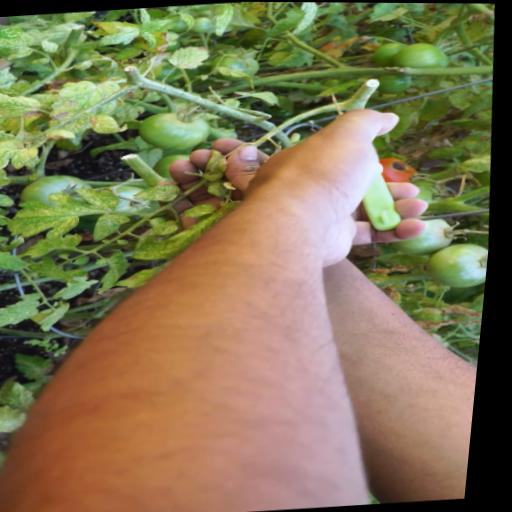Spider Mites: (6, 184, 126, 243), (134, 213, 230, 261), (47, 78, 122, 135), (0, 138, 47, 178), (21, 232, 87, 260), (0, 374, 47, 412), (0, 299, 49, 330), (0, 89, 47, 119), (281, 2, 319, 36), (94, 212, 138, 241), (57, 277, 106, 302), (87, 110, 133, 136), (167, 44, 213, 70), (0, 403, 37, 435), (202, 147, 235, 181), (95, 25, 142, 48), (0, 247, 39, 274), (135, 182, 184, 203), (0, 37, 36, 62), (210, 2, 236, 36), (150, 220, 186, 236), (183, 203, 221, 217), (0, 66, 19, 90), (208, 182, 233, 200), (39, 38, 60, 53), (0, 270, 7, 306)
